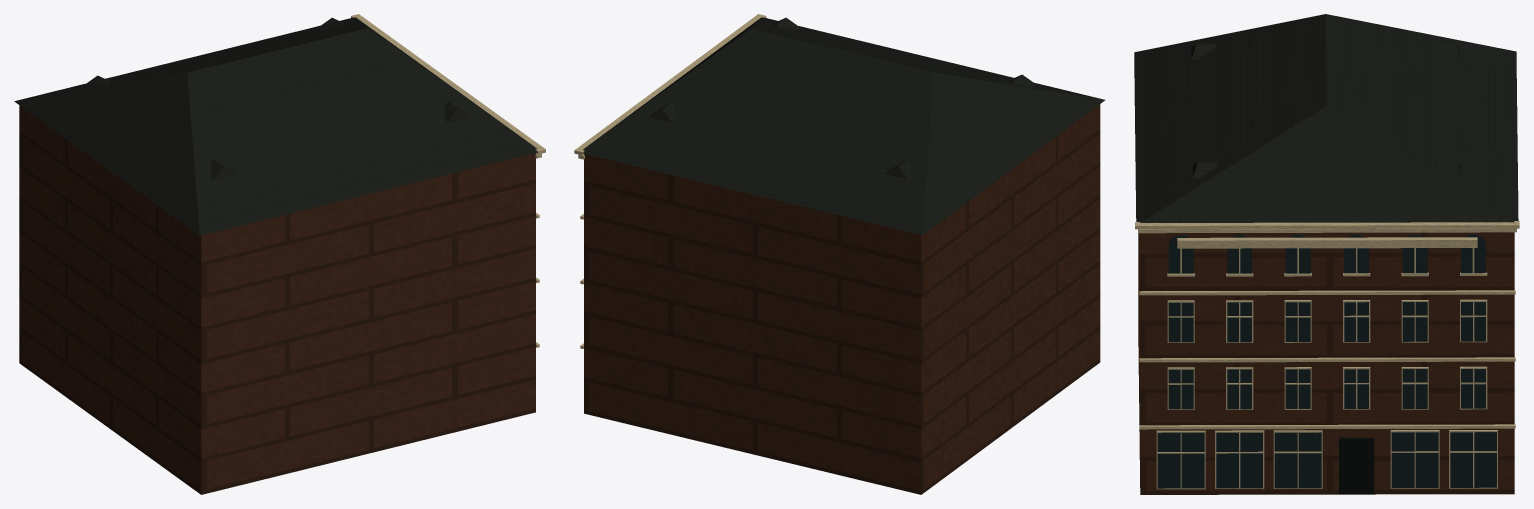
3 views of the same model, side by side, from view 1: azimuth 30°, elevation 25°; view 2: azimuth 150°, elevation 25°; view 3: azimuth 270°, elevation 25° (orthographic). The views are drawn at different scales.
Visible parts, largest first — view 1: cafe-caland-0, cafe-caland-1, cafe-caland-2; view 2: cafe-caland-0, cafe-caland-1, cafe-caland-2; view 3: cafe-caland-1, cafe-caland-0, cafe-caland-3, cafe-caland-2, cafe-caland-4.
Part boxes in pixels (x1=…): cafe-caland-0: x1=19, y1=105, x2=535, y2=494; cafe-caland-1: x1=14, y1=17, x2=537, y2=235; cafe-caland-2: x1=351, y1=14, x2=545, y2=347; cafe-caland-0: x1=584, y1=104, x2=1100, y2=494; cafe-caland-1: x1=583, y1=17, x2=1104, y2=235; cafe-caland-2: x1=574, y1=14, x2=766, y2=348; cafe-caland-1: x1=1134, y1=14, x2=1518, y2=222; cafe-caland-0: x1=1138, y1=232, x2=1514, y2=494; cafe-caland-3: x1=1157, y1=234, x2=1496, y2=488; cafe-caland-2: x1=1135, y1=221, x2=1519, y2=489; cafe-caland-4: x1=1339, y1=437, x2=1374, y2=494.
Bounding box in the file's own units: 26.06 × 24 × 23.98.
Materials: 6 (6 with a texture image).
